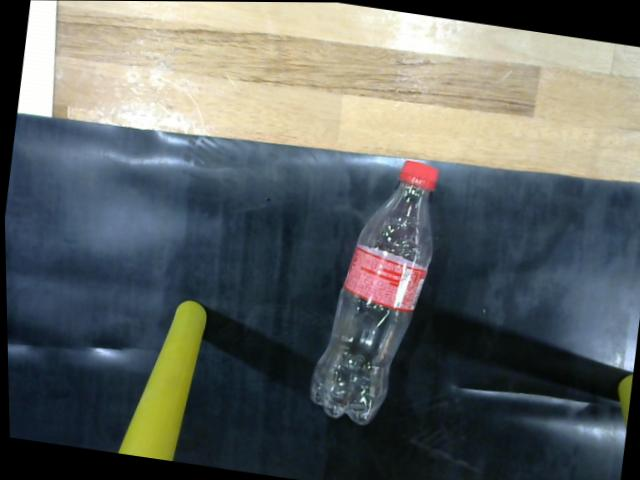bottle: (302, 160, 446, 432)
